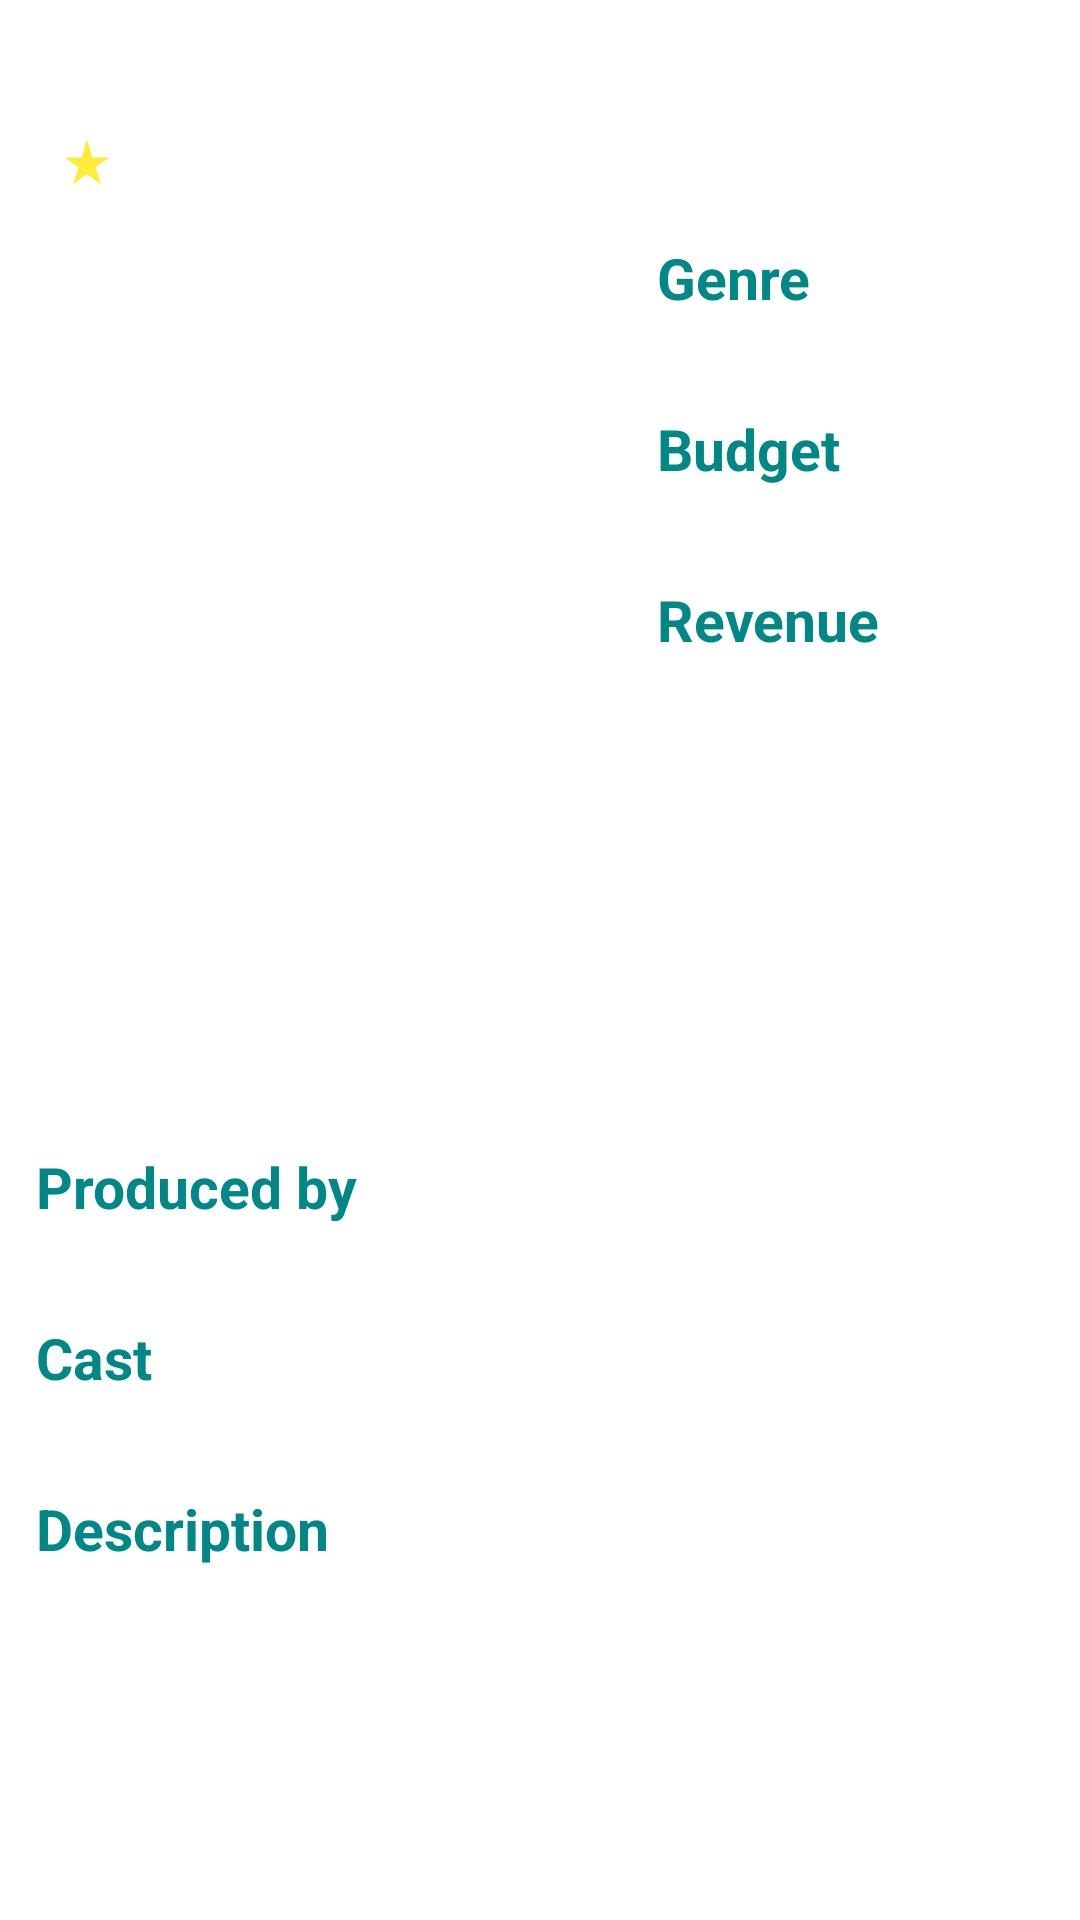

Named icons in this screenshot (1080px x 1920px) and their bounding boxes, (x1, y1, x2, y2):
star: (65, 140, 109, 184)
